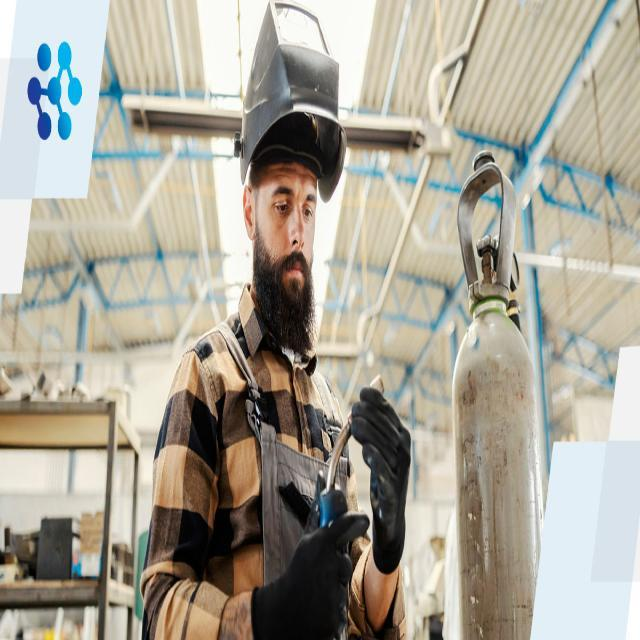helmet_lifted: (232, 0, 357, 350)
without_helmet: (240, 155, 322, 349)
